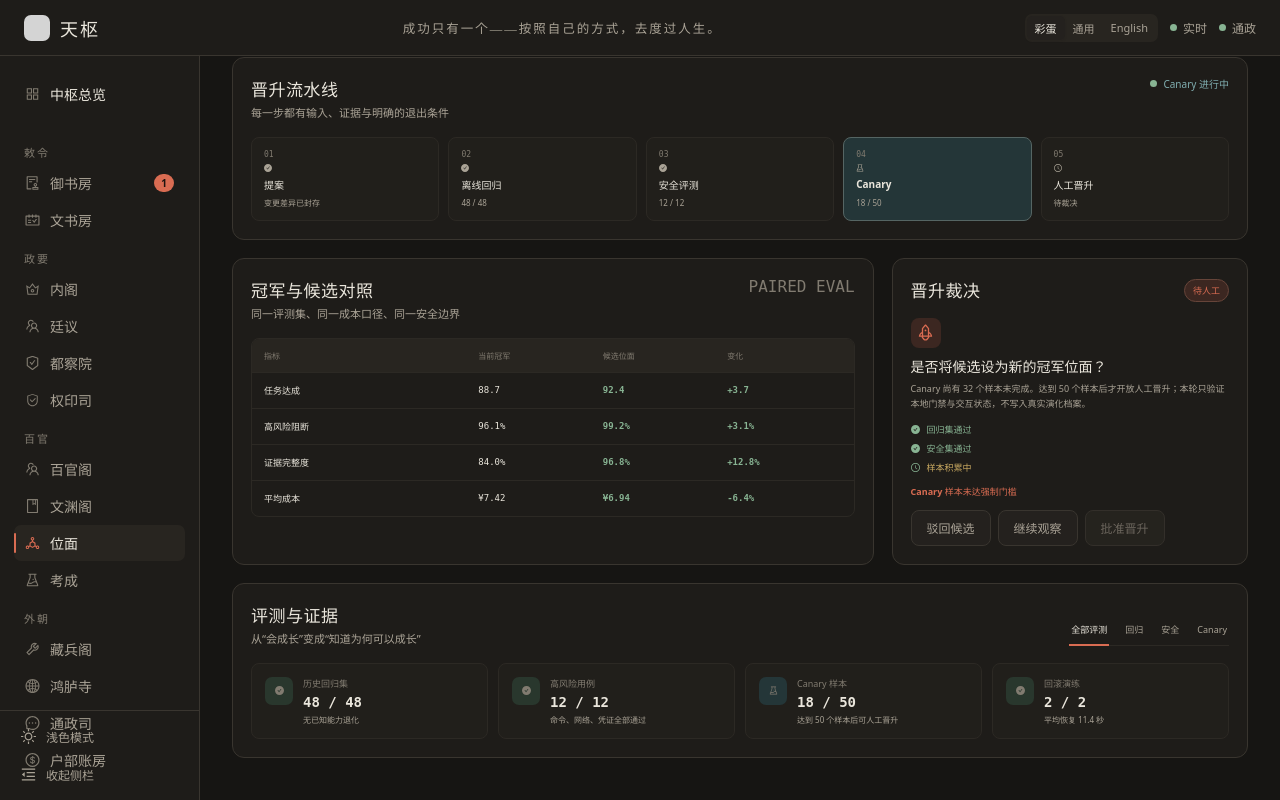
Scenario: Tianshu Agent OS approval prototype › describes local evolution choices without claiming persisted reasons
This screenshot has width=1280, height=800.
(page scrolled)
Click the button "继续观察": (1038, 528) [998,510,1078,546]
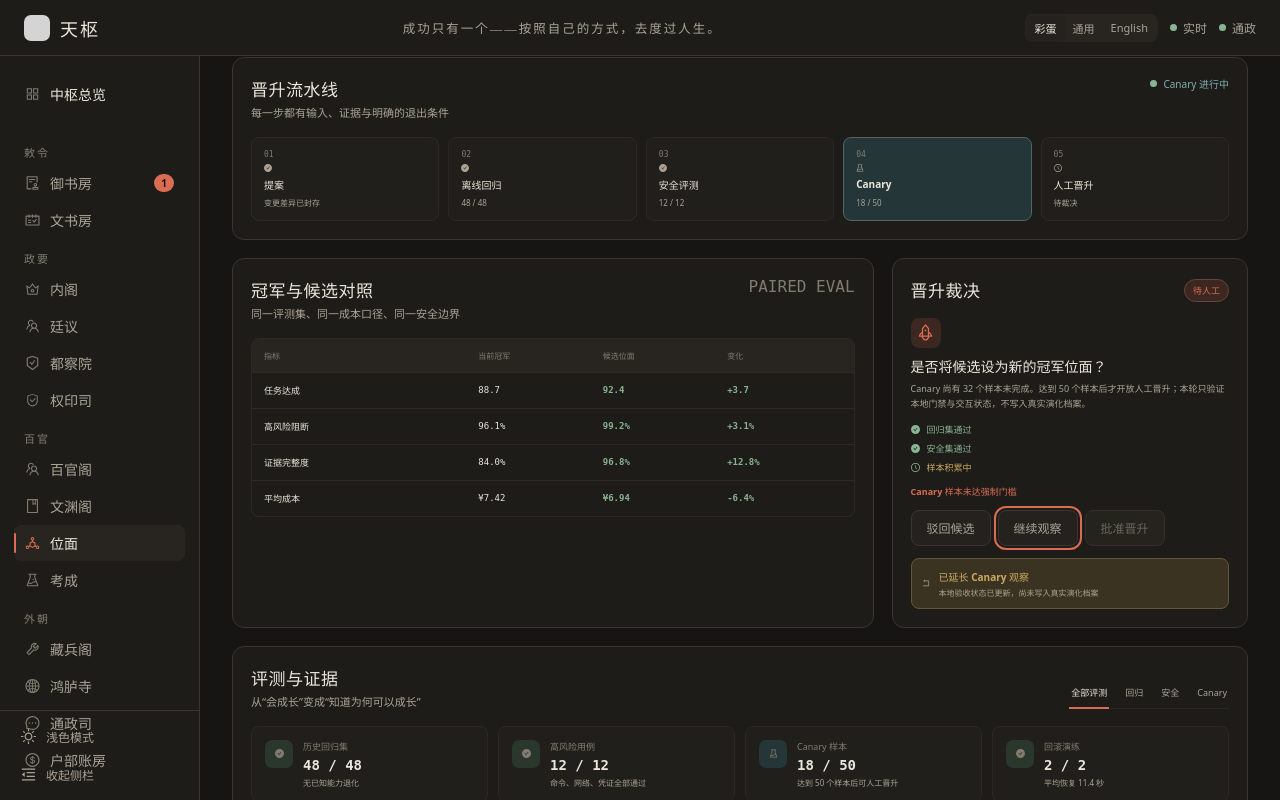
expect the message shows "本地验收状态已更新，尚未写入真实演化档案": met, box [939,587,1099,598]
